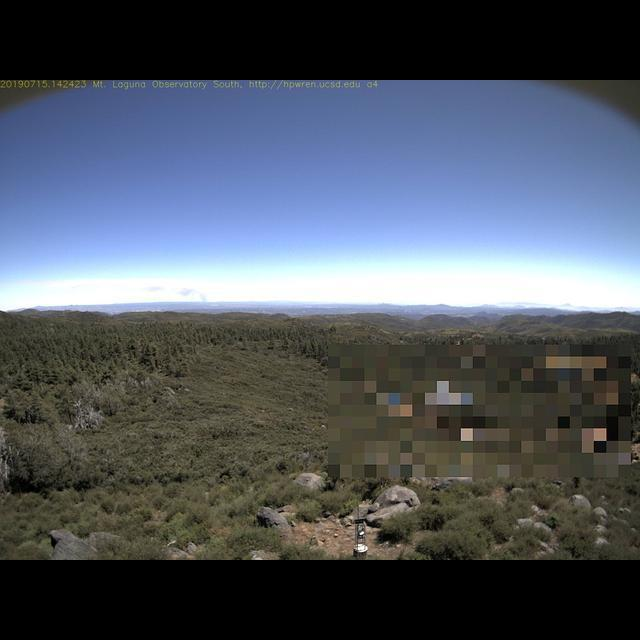Smoke: (150, 286, 207, 305)
